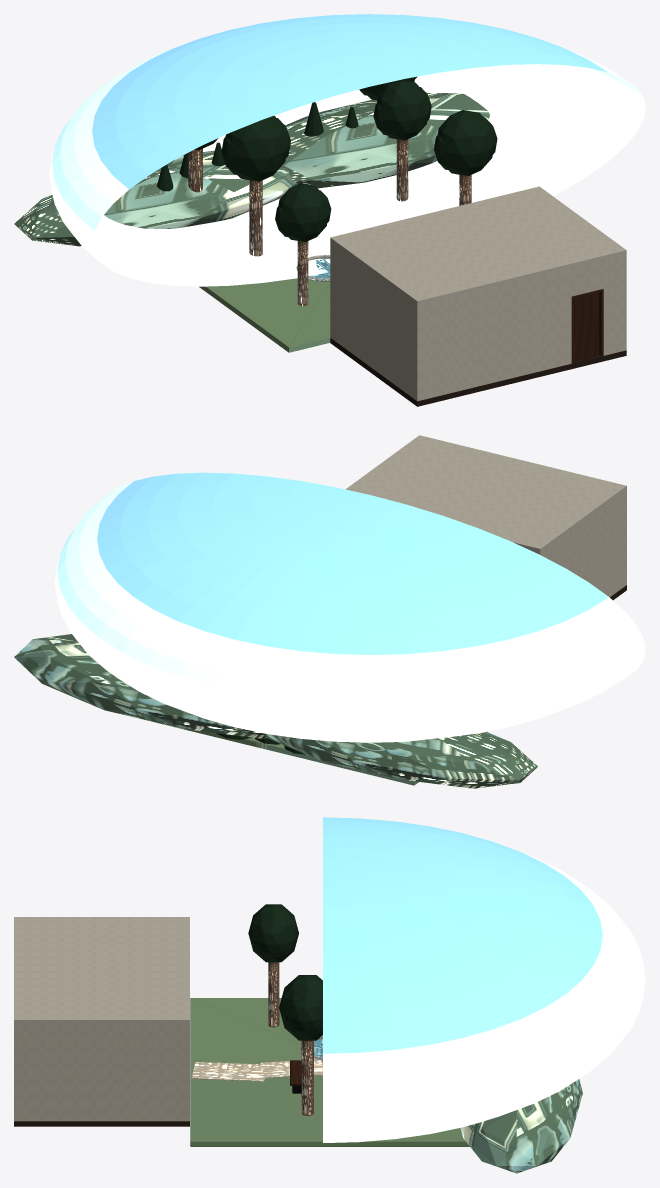
3 renders of one model, top to bottom at view 1: azimuth 30°, elevation 25°; view 2: azimuth 150°, elevation 25°; view 3: azimuth 270°, elevation 25°, orthographic.
Parts seen in each view (by area): view 1: exterior.sky-dome, shell.walls, shell.ceiling, exterior.park.hills, exterior.park.tree-canopies, exterior.near-ground, exterior.park.tree-trunks, shell.floor, opening.main-door.panel, exterior.park.tree-line; view 2: exterior.sky-dome, shell.ceiling, exterior.park.hills, shell.walls, exterior.near-ground; view 3: exterior.sky-dome, shell.ceiling, shell.walls, exterior.near-ground, exterior.park.hills, exterior.park.tree-canopies, exterior.park.path, exterior.park.tree-trunks, shell.floor.
Boxes of the visible parts, x1,y1,x2,y2 form: exterior.sky-dome: (49,14,645,286); shell.walls: (330,243,626,401); shell.ceiling: (330,186,626,306); exterior.park.hills: (14,92,489,246); exterior.park.tree-canopies: (194,76,497,241); exterior.near-ground: (199,278,330,352); exterior.park.tree-trunks: (188,139,471,305); shell.floor: (330,338,626,406); opening.main-door.panel: (574,292,599,361); exterior.park.tree-line: (157,102,358,191); exterior.sky-dome: (54,472,645,742); shell.ceiling: (345,435,626,554); exterior.park.hills: (14,634,537,788); shell.walls: (539,491,626,597); exterior.near-ground: (158,723,487,785); exterior.sky-dome: (323,817,645,1142); shell.ceiling: (14,917,189,1025); shell.walls: (14,1025,189,1121); exterior.near-ground: (190,998,469,1146); exterior.park.hills: (460,1079,582,1173); exterior.park.tree-canopies: (248,904,322,1040); exterior.park.path: (191,1059,322,1081); exterior.park.tree-trunks: (268,962,313,1115); shell.floor: (14,1121,189,1126).
Bounding box in the file's own units: 19 × 5.98 × 18.59.
27 materials, 9 textured.
